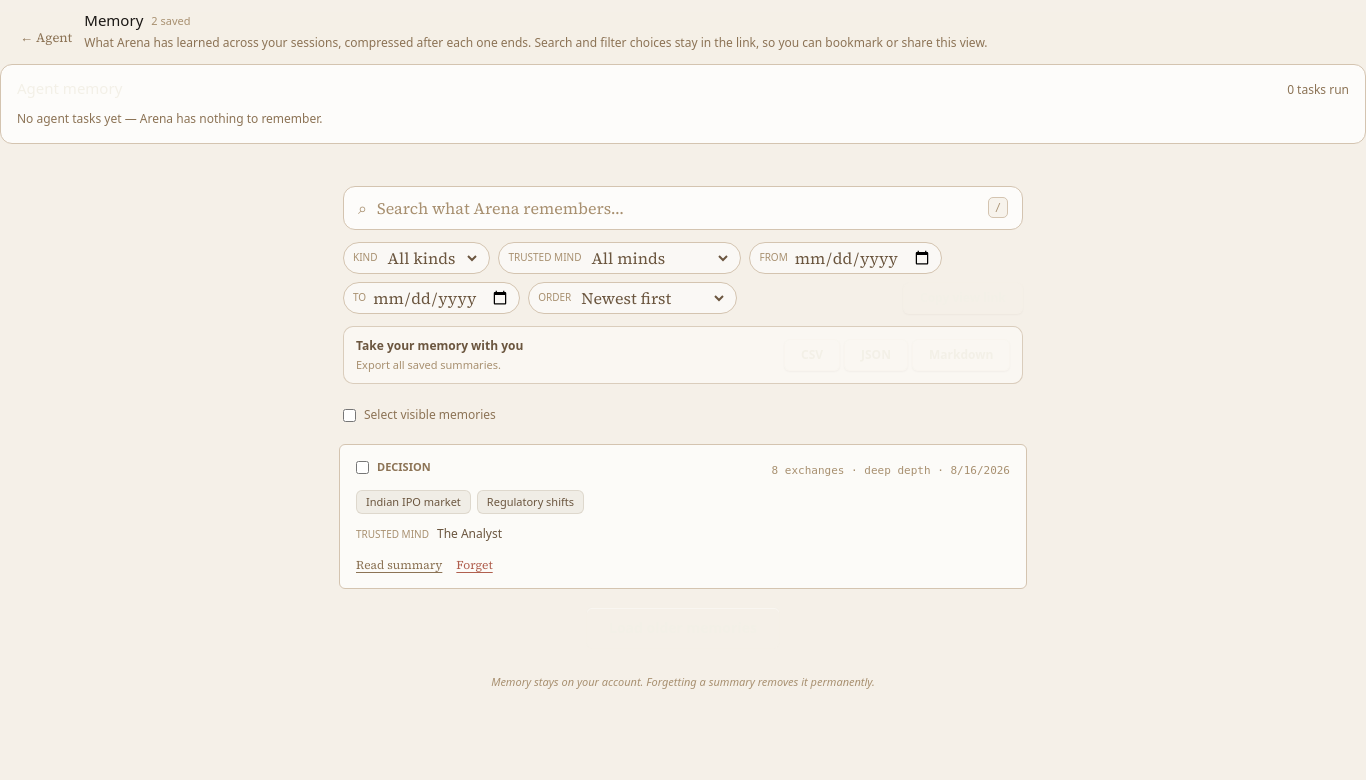
Test: MemoryPage › hydrates the full summary body when expanded
The width and height of the screenshot is (1366, 780).
Check: the text "Indian IPO market" is shown, box [356, 490, 471, 514]
Click the button "Read summary". click: (399, 565)
box: [356, 556, 442, 574]
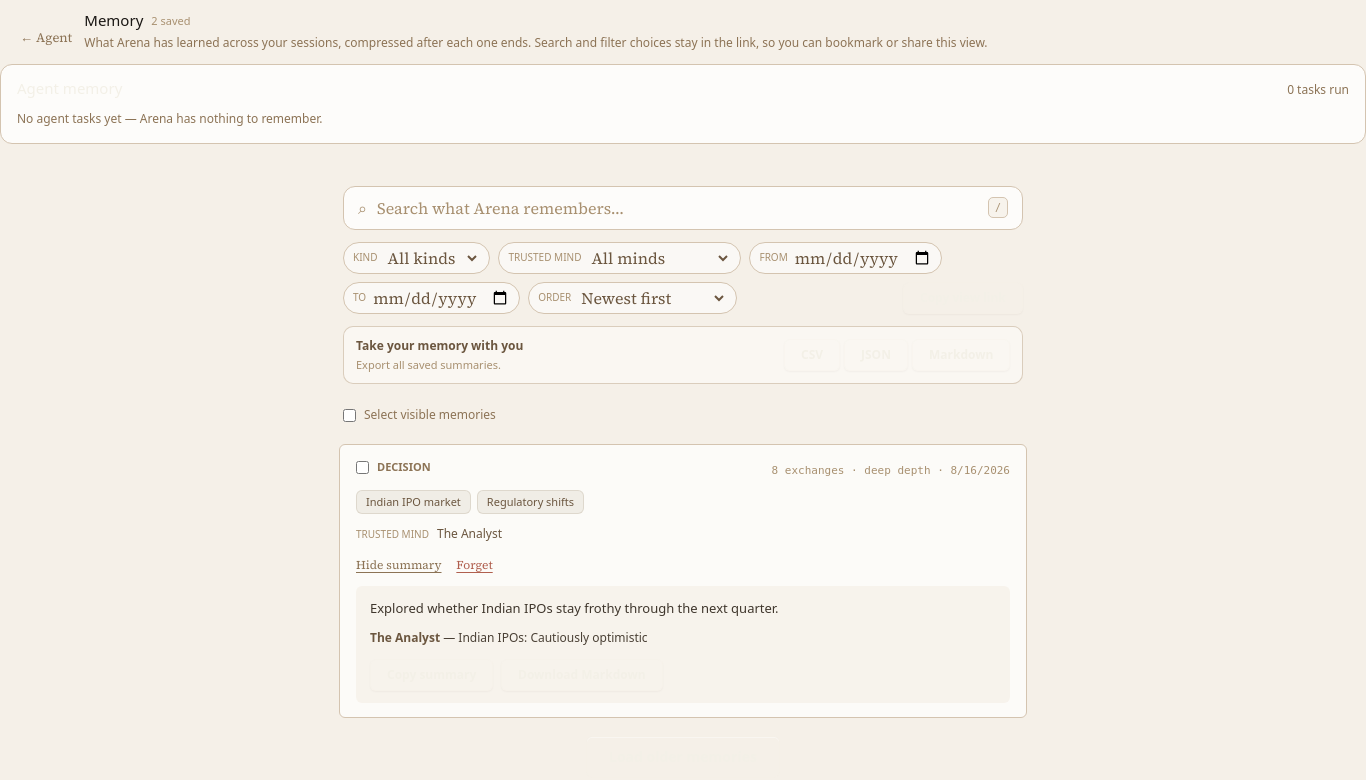
Check: the text "Indian IPOs stay frothy" is shown, box [370, 599, 779, 617]
Check: the list item "The Analyst — Indian IPOs: Cautiously optimistic" is shown, box [370, 629, 648, 646]
Check: the button "Hide summary" is expanded, box [356, 556, 442, 574]
